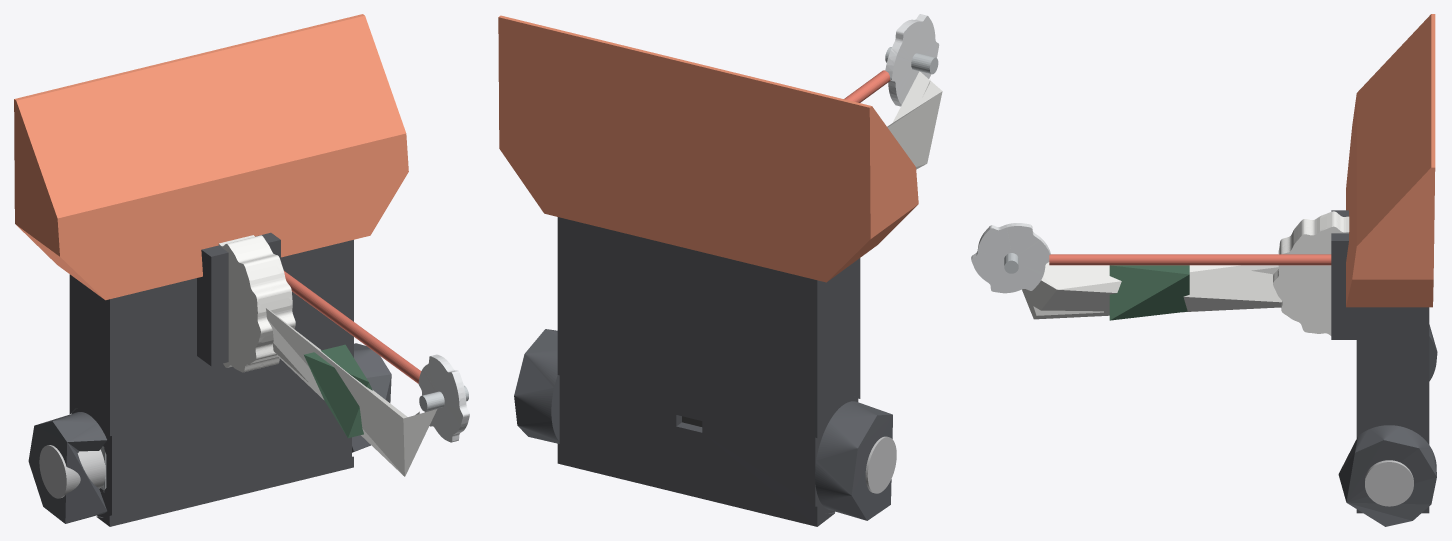
The model's file is refined_for_the_roboteers_plea.glb.
3 renders of one model, left to right at view 1: azimuth 30°, elevation 25°; view 2: azimuth 150°, elevation 25°; view 3: azimuth 270°, elevation 25°, orthographic. The views are drawn at different scales.
Parts seen in each view (by area): view 1: plough, chassis, gear, arm, wheel_r0, gear_mount, servo_saddle, weapon, dt_hub_wheel_r0, lock_pin, wheel_l0; view 2: plough, chassis, wheel_r0, wheel_l0, arm, weapon, dt_hub_wheel_r0, lock_pin, dt_shaft_weapon; view 3: plough, chassis, arm, wheel_l0, gear, weapon, servo_saddle, lock_pin, gear_mount, dt_hub_wheel_l0.
Boxes of the visible parts, box(x1,y1,x2,y2) form: plough: box(14, 14, 408, 300); chassis: box(69, 240, 353, 526); gear: box(218, 235, 295, 372); arm: box(266, 308, 437, 476); wheel_r0: box(28, 412, 106, 523); gear_mount: box(197, 232, 280, 366); servo_saddle: box(304, 344, 372, 438); weapon: box(418, 354, 469, 442); dt_hub_wheel_r0: box(39, 445, 105, 498); lock_pin: box(284, 271, 421, 383); wheel_l0: box(352, 343, 391, 452); plough: box(498, 15, 918, 282); chassis: box(557, 217, 860, 526); wheel_r0: box(815, 401, 892, 520); wheel_l0: box(514, 329, 559, 443); arm: box(887, 71, 942, 169); weapon: box(885, 14, 939, 106); dt_hub_wheel_r0: box(865, 436, 896, 493); lock_pin: box(844, 70, 890, 102); dt_shaft_weapon: box(885, 47, 938, 74); plough: box(1346, 14, 1435, 307); chassis: box(1356, 307, 1429, 513); arm: box(1022, 254, 1281, 319); wheel_l0: box(1338, 425, 1436, 526); gear: box(1273, 211, 1349, 335); weapon: box(971, 223, 1050, 293); servo_saddle: box(1109, 265, 1189, 320); lock_pin: box(1049, 254, 1331, 265); gear_mount: box(1331, 210, 1356, 339); dt_hub_wheel_l0: box(1365, 460, 1413, 506).
Bounding box in the file's own units: 100 × 112 × 128.
